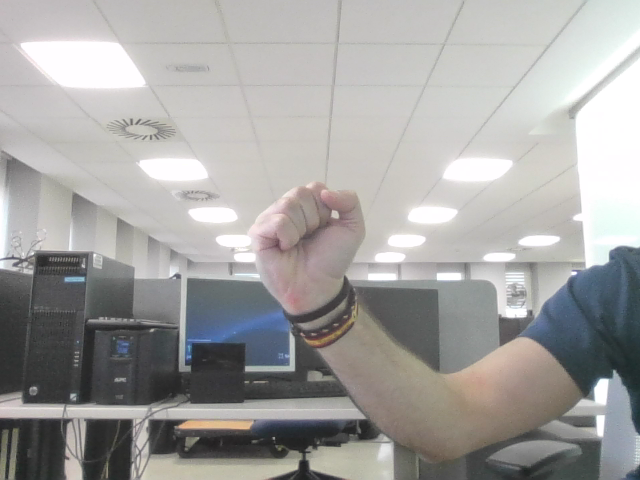Puño: (264, 186, 348, 261)
